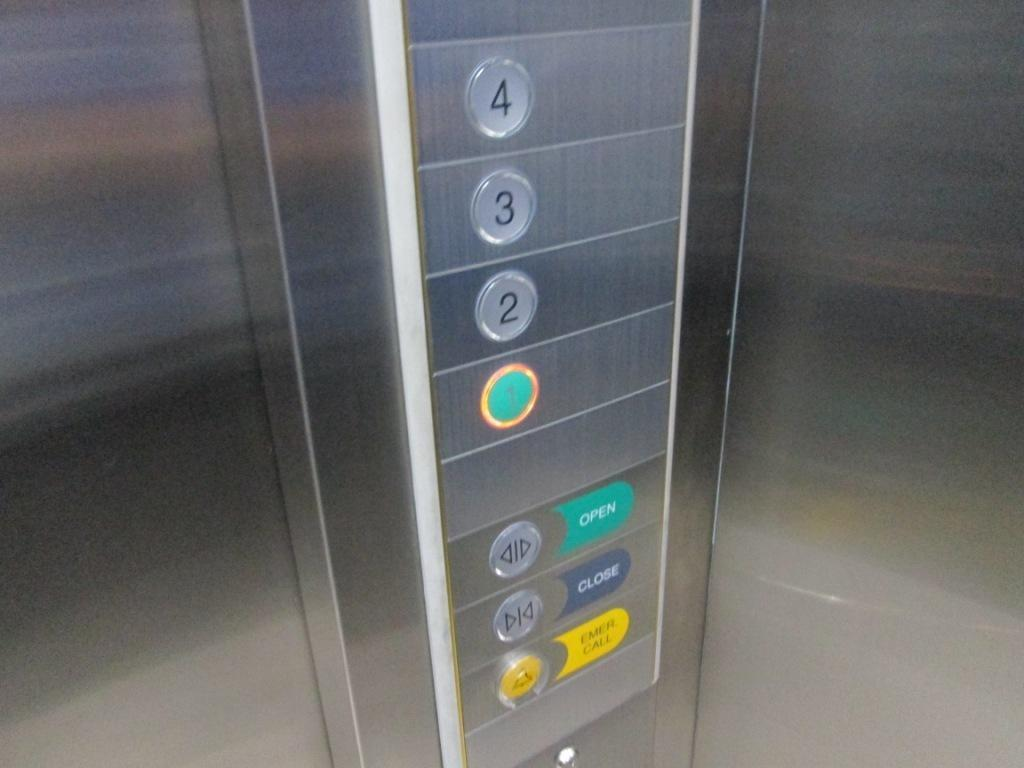1: (477, 361, 540, 432)
2: (471, 269, 537, 343)
3: (467, 164, 537, 246)
4: (461, 54, 537, 140)
alarm: (494, 649, 548, 708)
close: (491, 586, 543, 642)
open: (486, 519, 543, 579)
